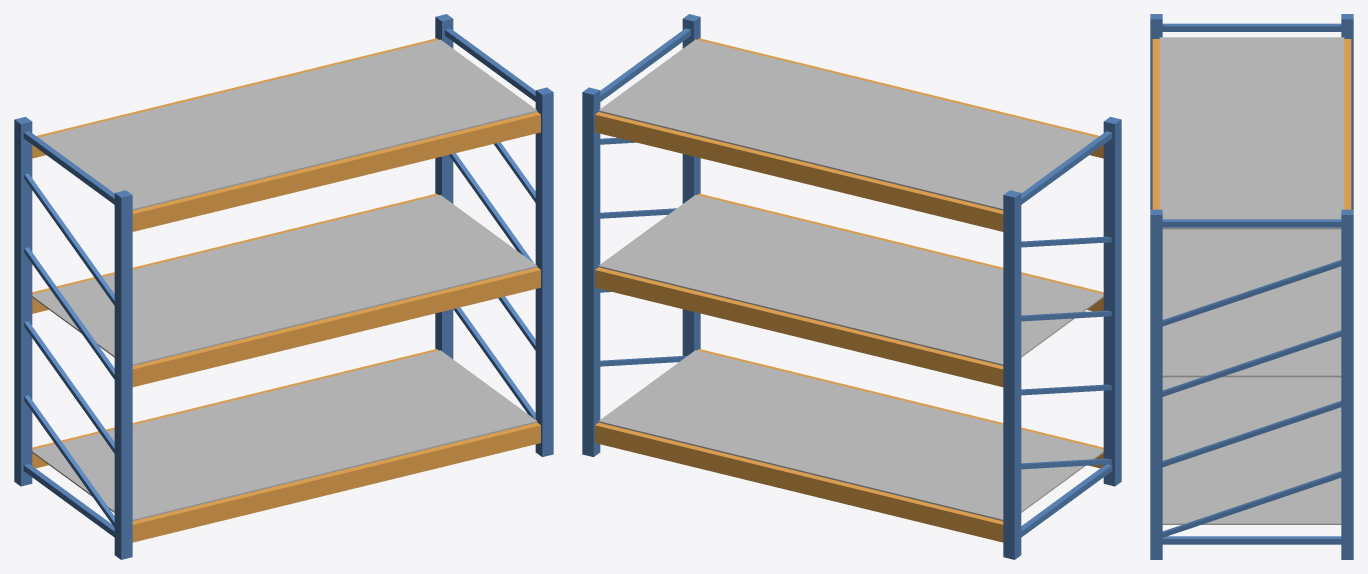
Rendered from dm_palletrack.glb.
3 views of the same model, side by side, from view 1: azimuth 30°, elevation 25°; view 2: azimuth 150°, elevation 25°; view 3: azimuth 270°, elevation 25° (orthographic). The views are drawn at different scales.
Parts seen in each view (by area): view 1: dm_palletrack; view 2: dm_palletrack; view 3: dm_palletrack.
Part boxes in pixels (x1,y1,x2,y2): dm_palletrack: (14,14,553,559); dm_palletrack: (582,14,1121,559); dm_palletrack: (1150,14,1353,559).
Bounding box in the file's own units: 3.06 × 2.45 × 1.31.
